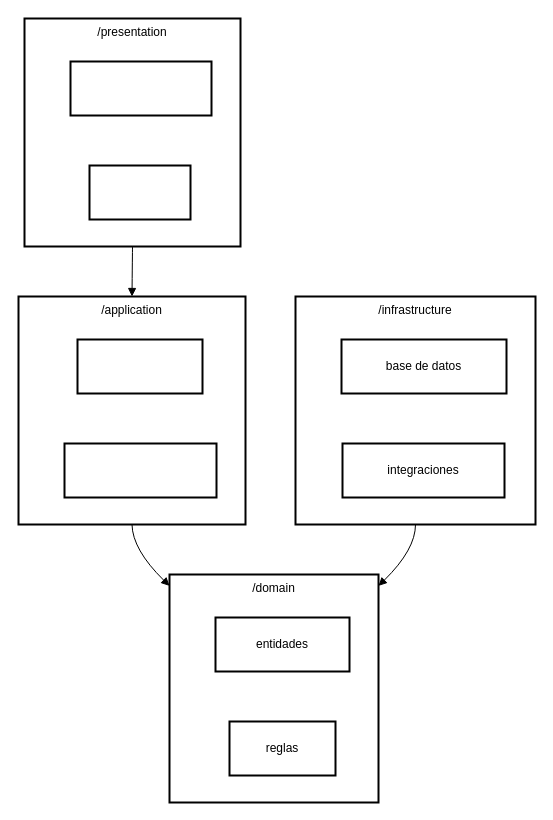
The diagram is 553 pixels wide and 820 high, and some of its shapes have lost their labels. Here are the shapes that lost their labels. From the top down, the centre of each, then its label:
At point (140, 88): "controllers".
At point (139, 192): "views".
At point (139, 366): "servicios".
At point (140, 470): "validaciones".
